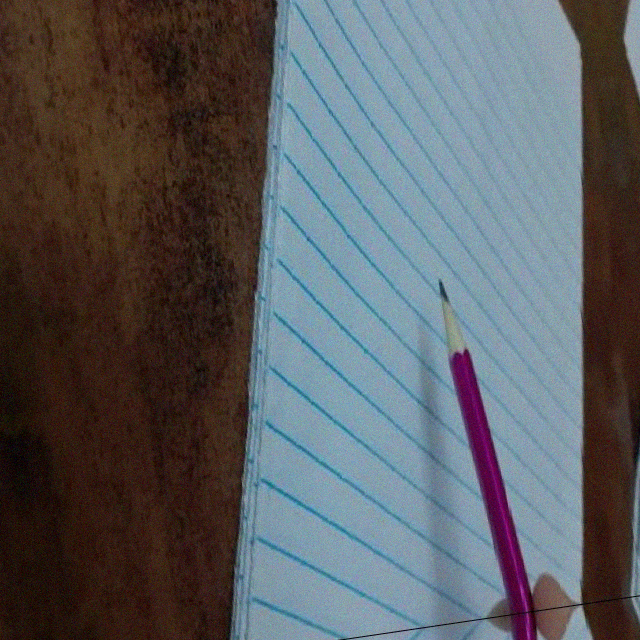pencil: (430, 273, 474, 356)
